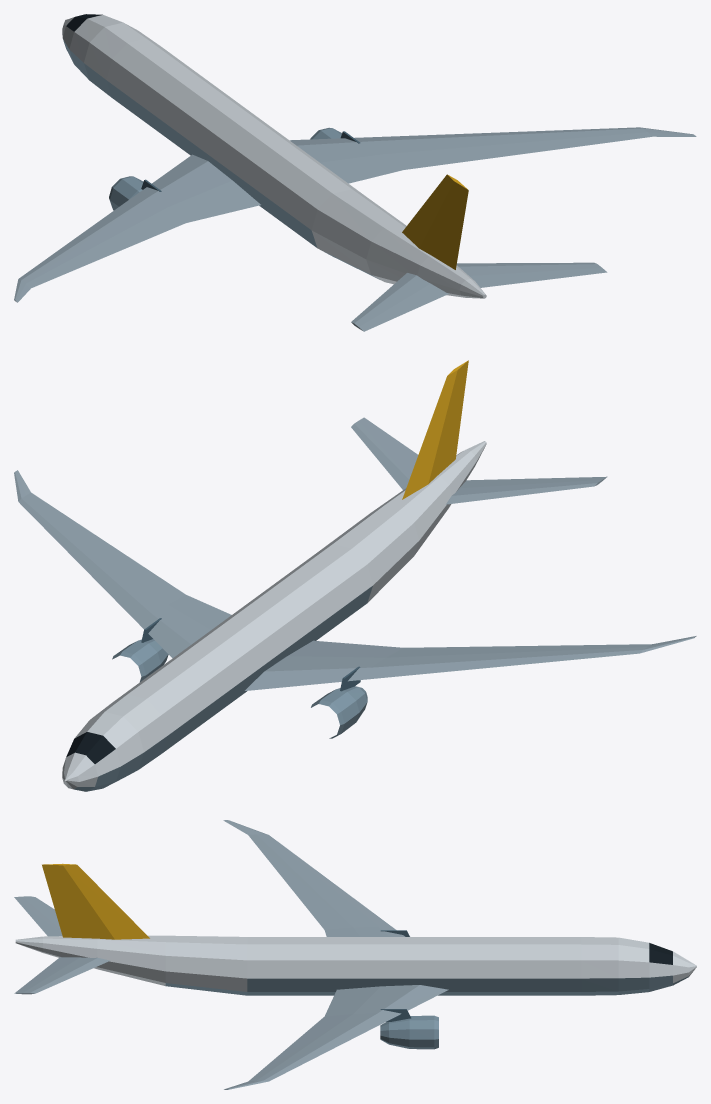
3 renders of one model, top to bottom at view 1: azimuth 30°, elevation 25°; view 2: azimuth 150°, elevation 25°; view 3: azimuth 270°, elevation 25°, orthographic. The views are drawn at different scales.
Visible parts, largest first — view 1: lod0; view 2: lod0; view 3: lod0.
Boxes of the visible parts, <box> form: lod0: <box>14,14,696,331</box>; lod0: <box>14,360,696,791</box>; lod0: <box>14,820,696,1089</box>.
Size of what is drawn, in the model's own units: 0.9333 by 0.2314 by 1.
